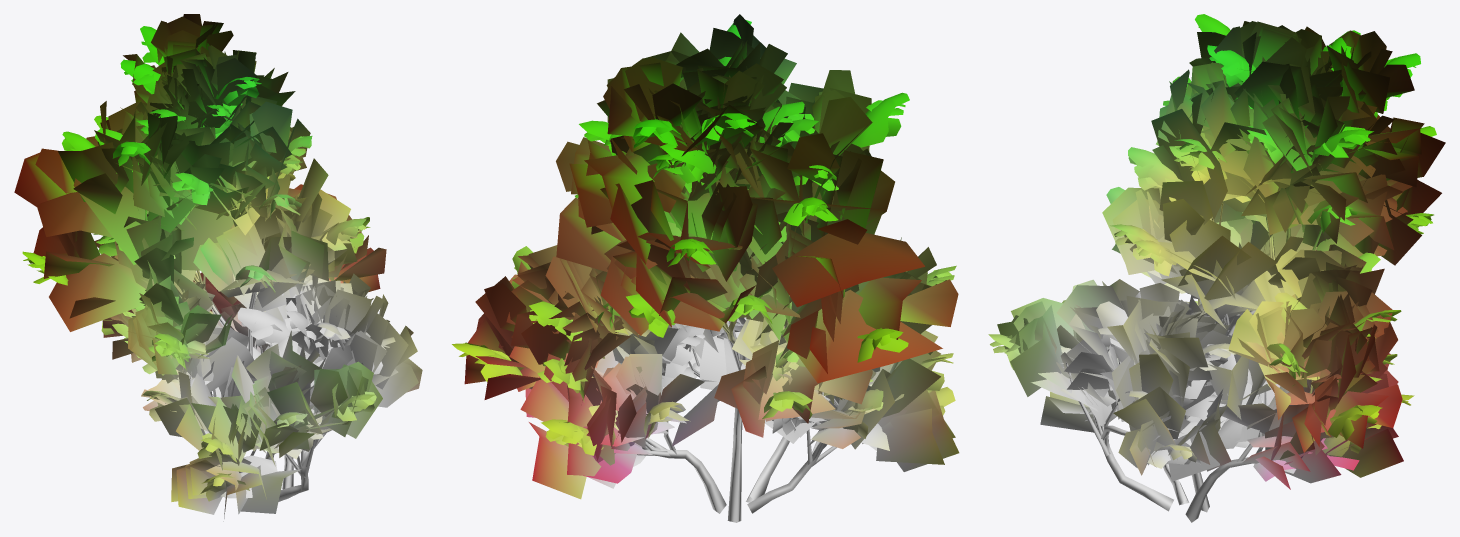
Rendered from arden_forest_lilac_03_purple.fbx.
The picture shows the model from 3 angles, left to right: view 1: azimuth 30°, elevation 25°; view 2: azimuth 150°, elevation 25°; view 3: azimuth 270°, elevation 25°; orthographic projection. The views are drawn at different scales.
Visible parts, largest first — view 1: arden_forest_lilac_03_purple; view 2: arden_forest_lilac_03_purple; view 3: arden_forest_lilac_03_purple.
Part boxes in pixels (left/top/right/bottom): arden_forest_lilac_03_purple: left=14, top=14, right=422, bottom=521; arden_forest_lilac_03_purple: left=452, top=14, right=959, bottom=522; arden_forest_lilac_03_purple: left=988, top=14, right=1445, bottom=522.
Size of the model in its own units: 3.43 by 3.51 by 4.
